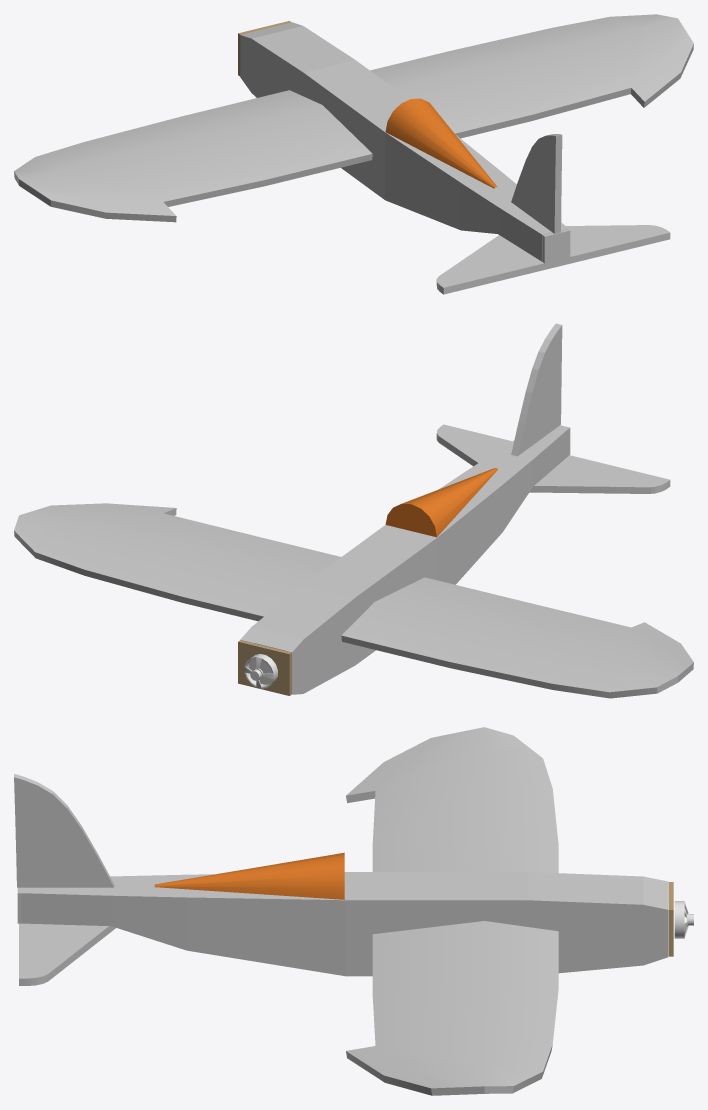
File: Mini3D.glb
The picture shows the model from 3 angles, top to bottom: view 1: azimuth 30°, elevation 25°; view 2: azimuth 150°, elevation 25°; view 3: azimuth 270°, elevation 25°; orthographic projection. The views are drawn at different scales.
Visible parts, largest first — view 1: Wing, Skin, HorizontalStabiliser, Hood, VerticalStabiliser, Ribs; view 2: Wing, Skin, HorizontalStabiliser, VerticalStabiliser, Hood, Firewall, Motor; view 3: Wing, Skin, VerticalStabiliser, Hood, HorizontalStabiliser, Motor.
Boxes of the visible parts, x1=… form: Wing: x1=14, y1=14, x2=693, y2=222; Skin: x1=240, y1=22, x2=568, y2=261; HorizontalStabiliser: x1=436, y1=225, x2=670, y2=294; Hood: x1=385, y1=98, x2=497, y2=188; VerticalStabiliser: x1=511, y1=134, x2=562, y2=233; Ribs: x1=543, y1=229, x2=570, y2=263; Wing: x1=14, y1=503, x2=693, y2=698; Skin: x1=240, y1=426, x2=568, y2=694; HorizontalStabiliser: x1=436, y1=424, x2=670, y2=493; VerticalStabiliser: x1=511, y1=323, x2=562, y2=456; Hood: x1=385, y1=468, x2=497, y2=537; Firewall: x1=238, y1=640, x2=291, y2=695; Motor: x1=244, y1=654, x2=277, y2=688; Wing: x1=346, y1=727, x2=558, y2=1095; Skin: x1=21, y1=872, x2=668, y2=976; VerticalStabiliser: x1=14, y1=774, x2=114, y2=887; Hood: x1=154, y1=852, x2=344, y2=899; HorizontalStabiliser: x1=19, y1=923, x2=115, y2=985; Motor: x1=674, y1=901, x2=693, y2=938.
Bounding box in the file's own units: 0.5124 × 0.1239 × 0.4099.
